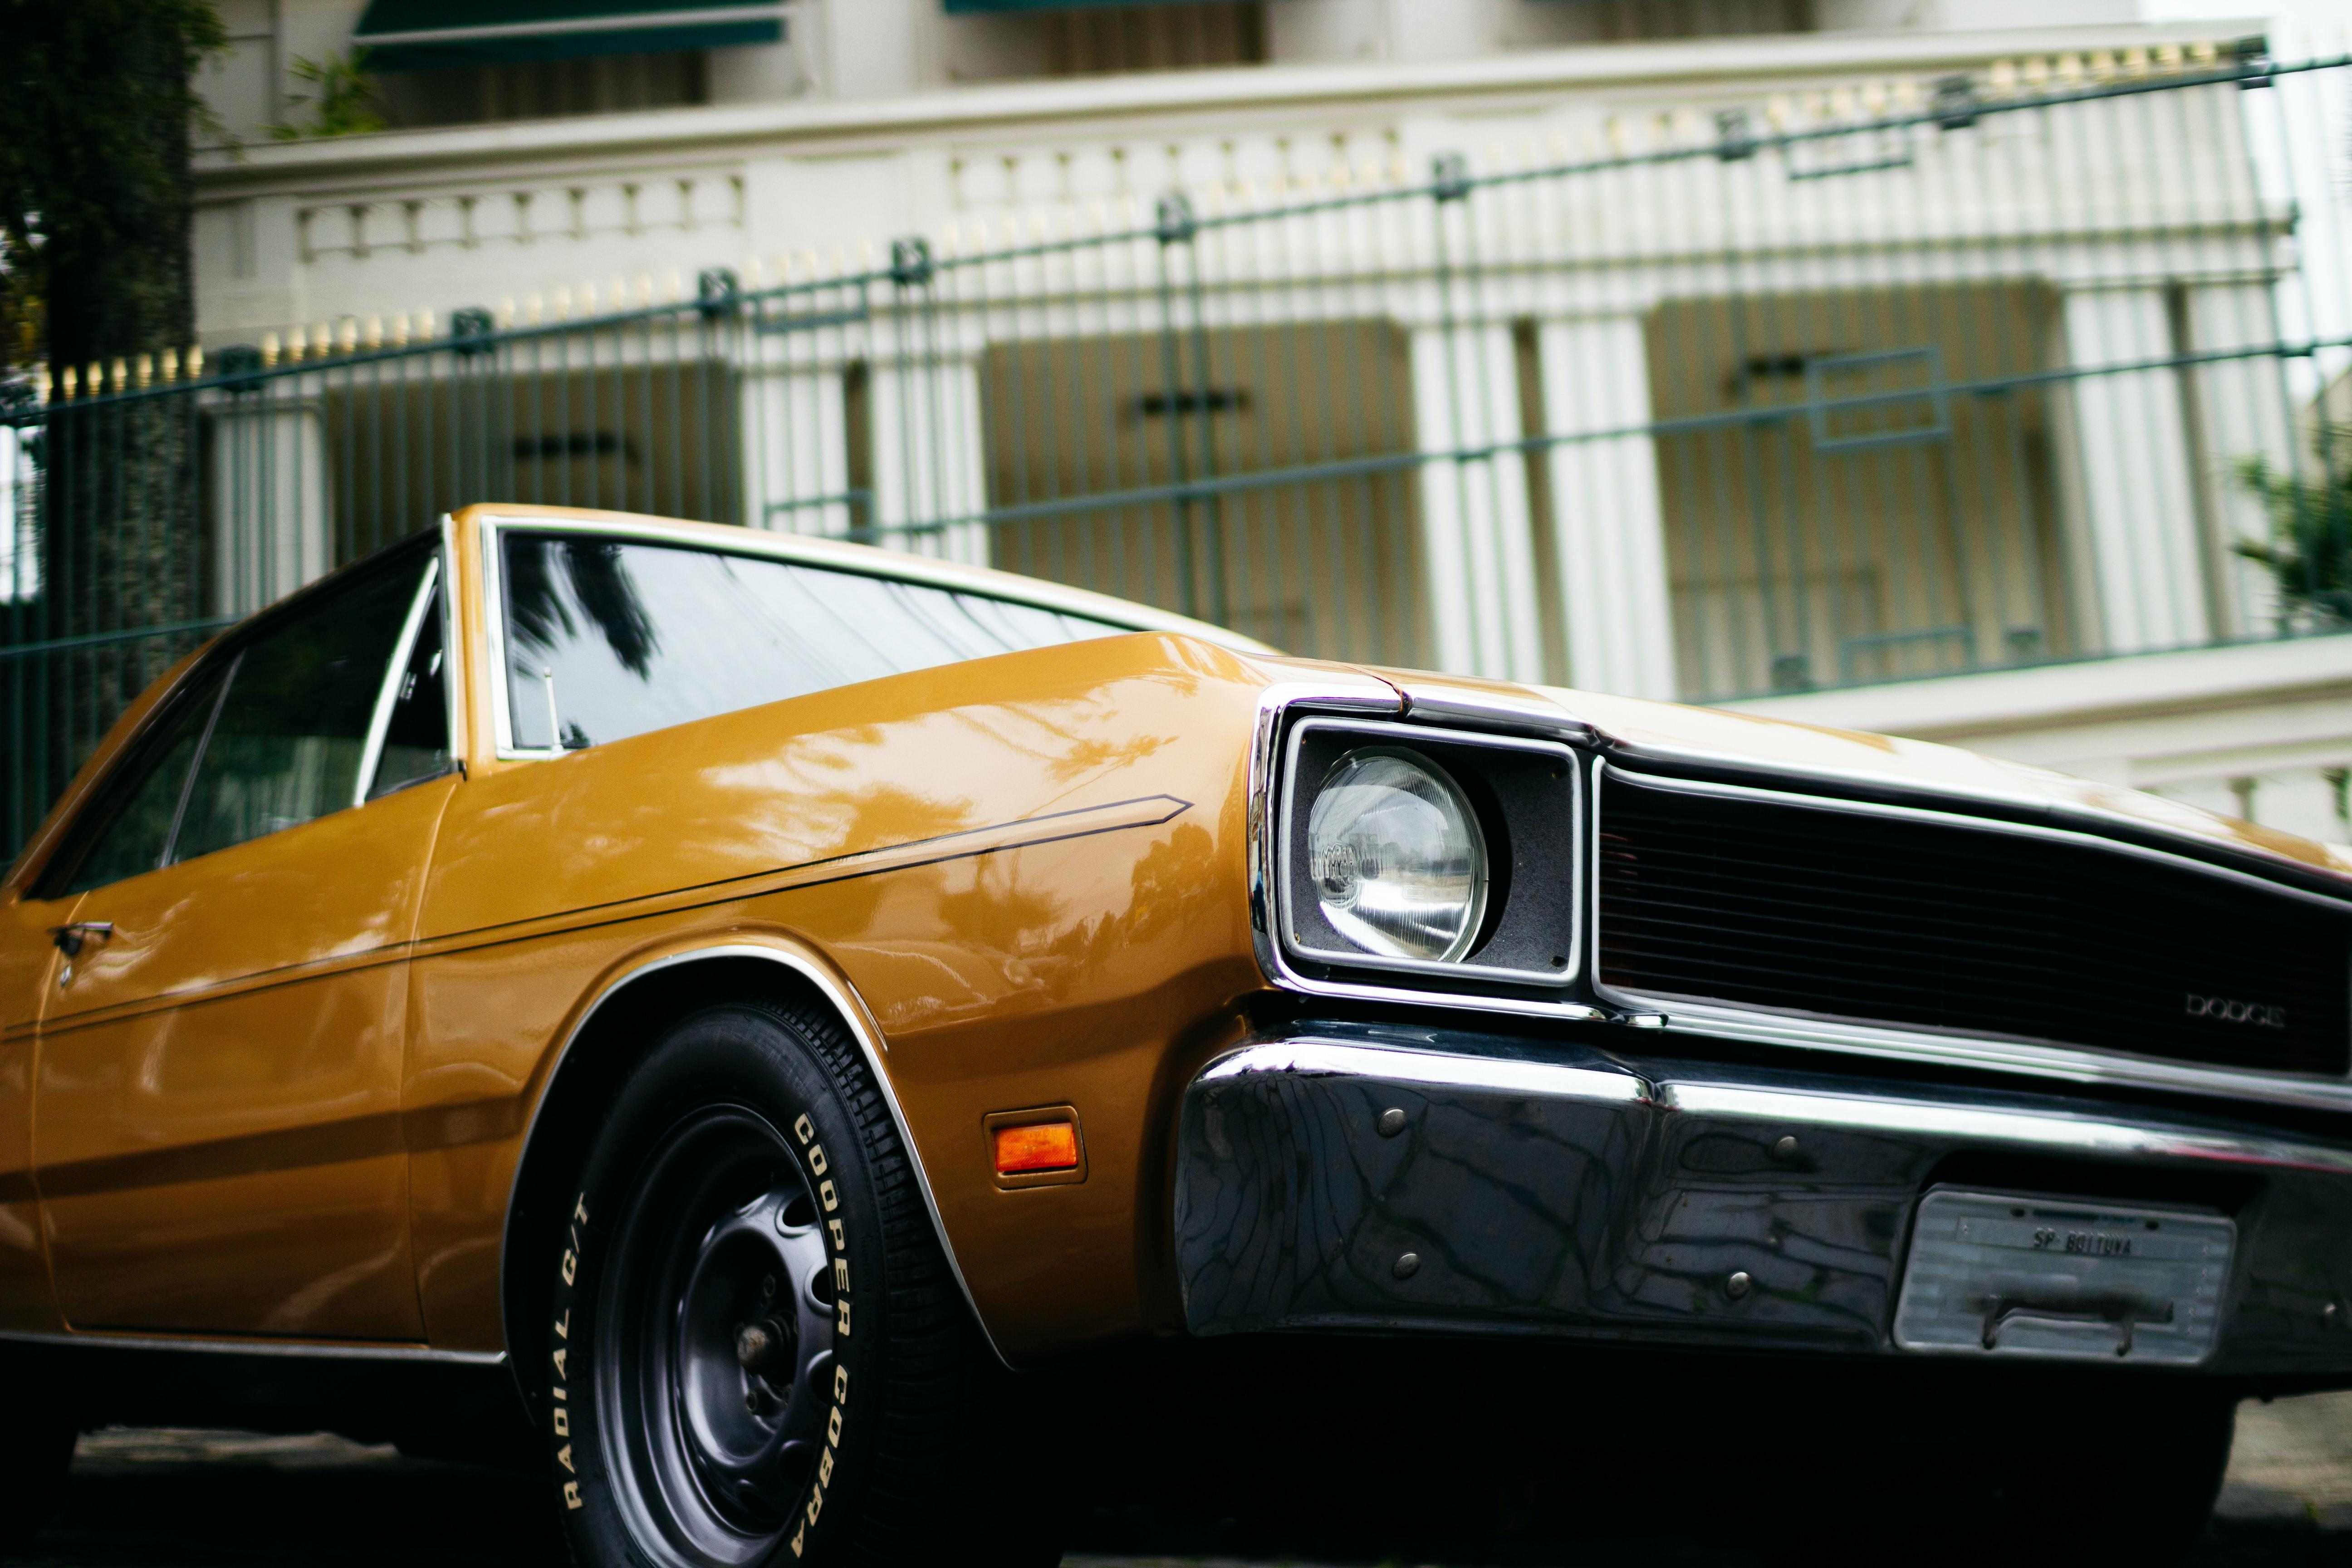dodge: (2161, 973, 2312, 1048)
